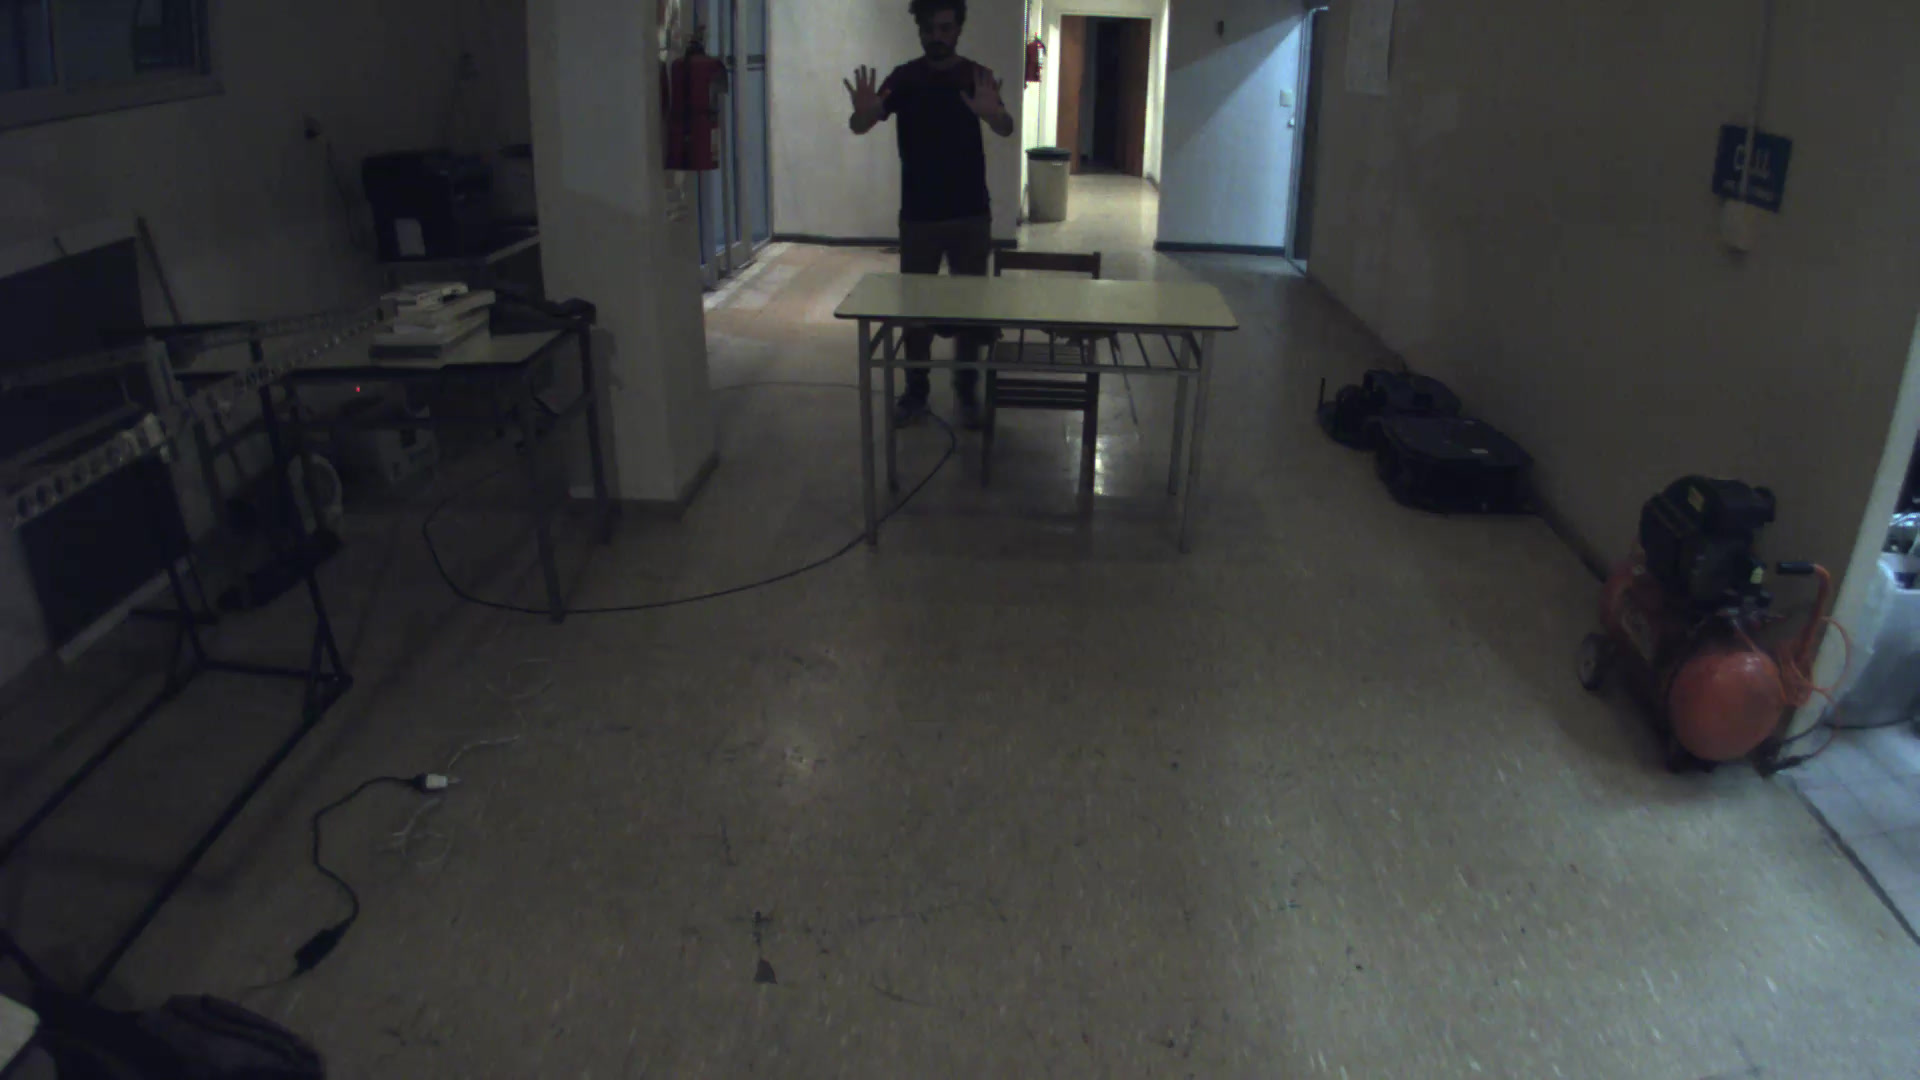hand: (949, 61, 1025, 128), (840, 59, 899, 137)
